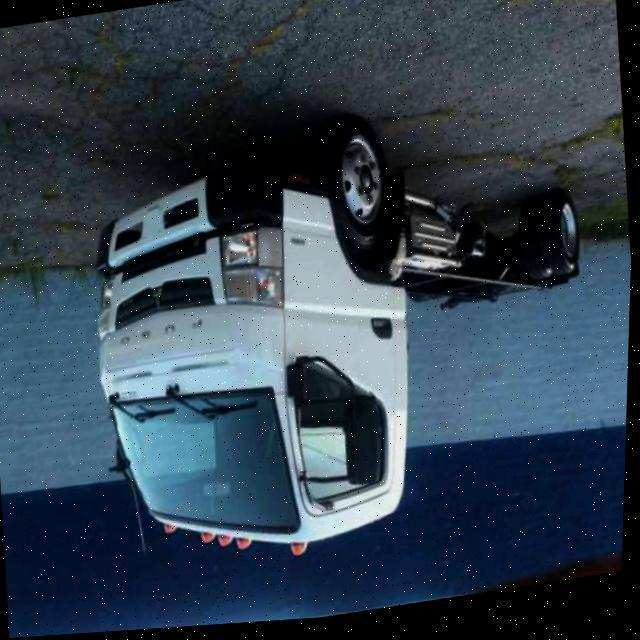truck: (77, 91, 610, 584)
